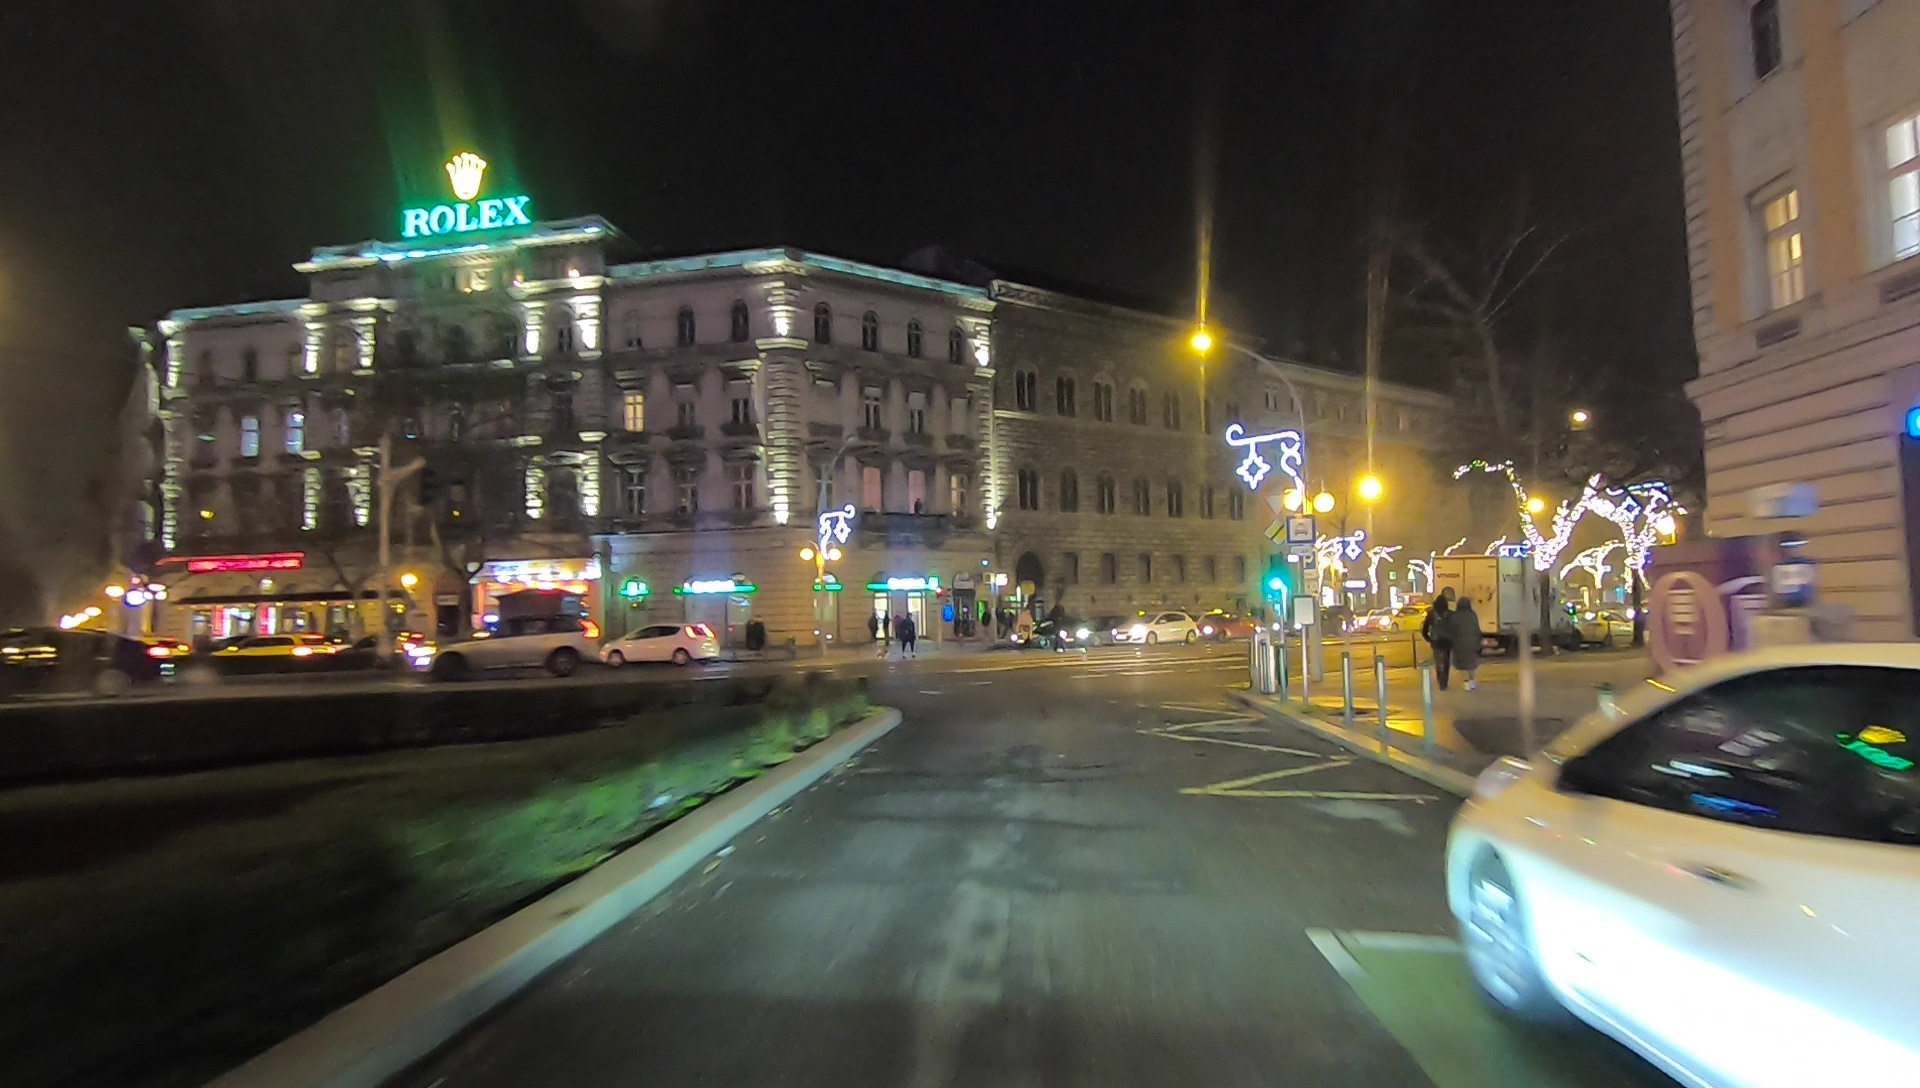person: (1419, 599, 1454, 689), (1454, 597, 1478, 686), (897, 615, 914, 654), (880, 610, 893, 643), (867, 610, 879, 642)
